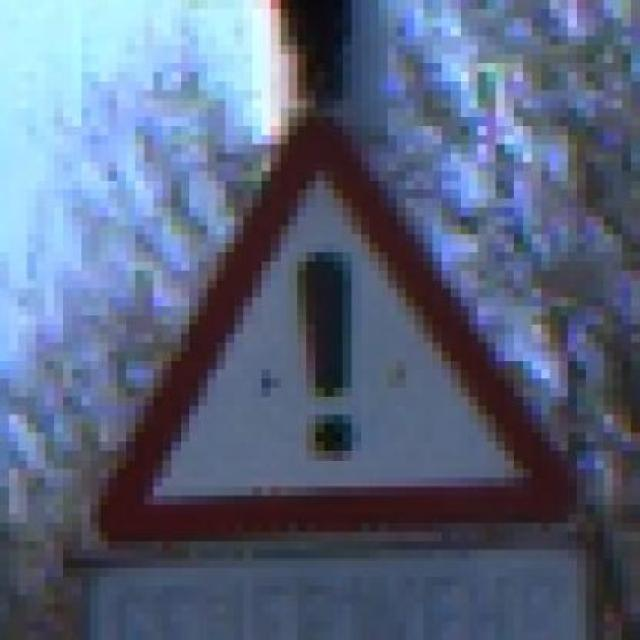Attention Please-: (82, 108, 586, 532)
